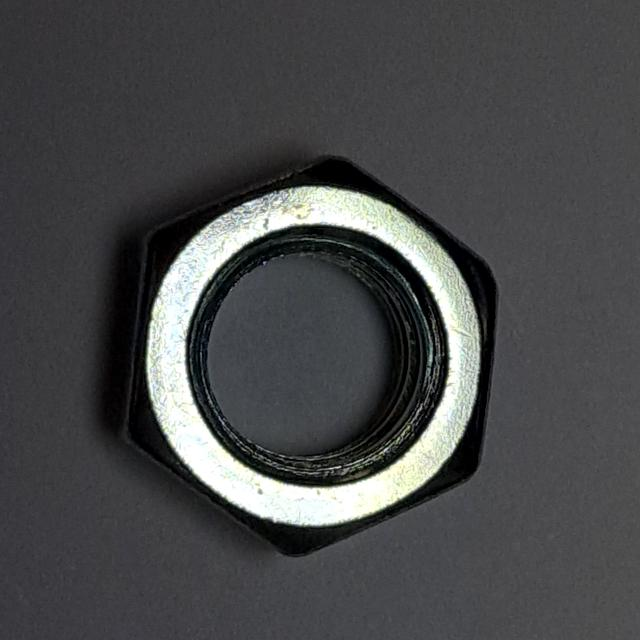Excellent: (100, 137, 514, 569)
